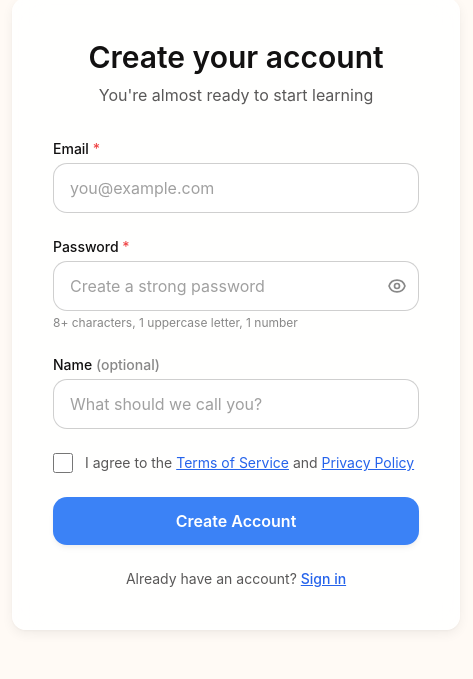
Scenario: AccountCreationPage › form validation › shows error when terms not agreed
This screenshot has width=473, height=679.
Type "test@example.com" into the field labelled "Email *".
click(236, 188); type("test@example.com")  # box x1=53 y1=163 x2=419 y2=213
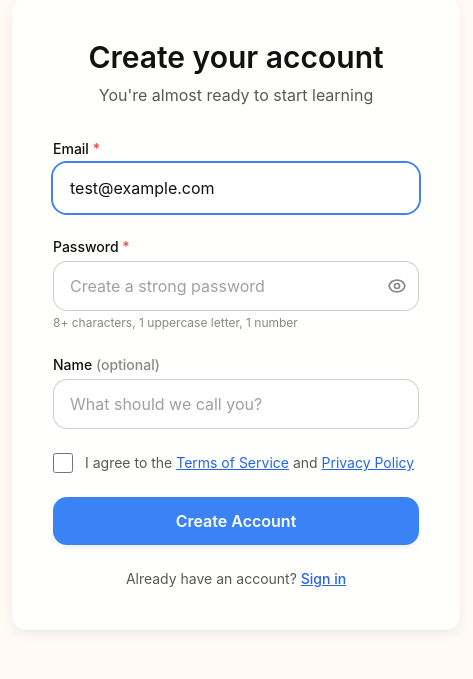
Type "SecurePass123" into the password field labelled "Password *".
click(236, 286); type("SecurePass123")  # box x1=53 y1=261 x2=419 y2=311
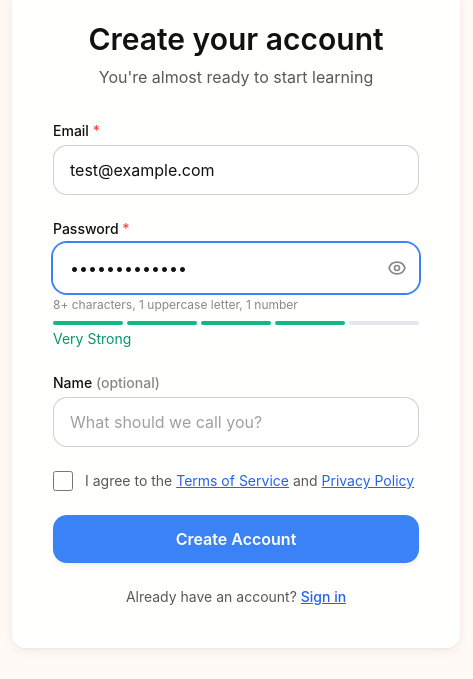
Click the button "Create Account".
click(236, 539)  # box x1=53 y1=515 x2=419 y2=563
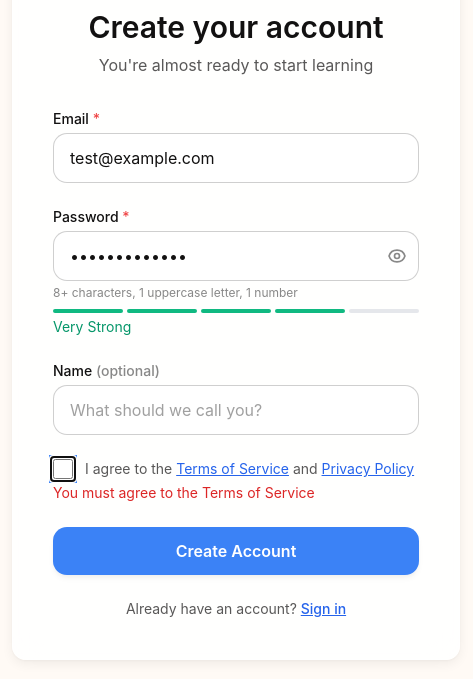
Now the text "You must agree to the Terms of Service" is shown, box x1=53 y1=484 x2=315 y2=501
